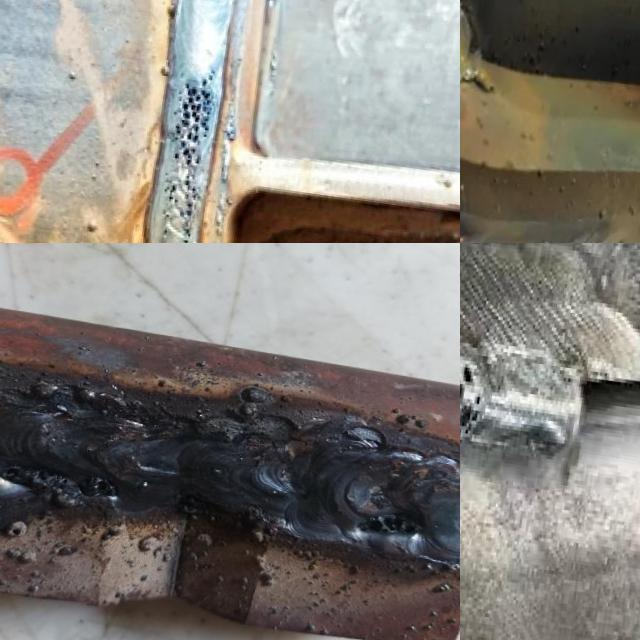defect: (171, 66, 219, 171), (159, 169, 203, 243), (460, 358, 492, 445), (0, 466, 78, 499), (352, 515, 427, 537), (80, 475, 120, 499)
